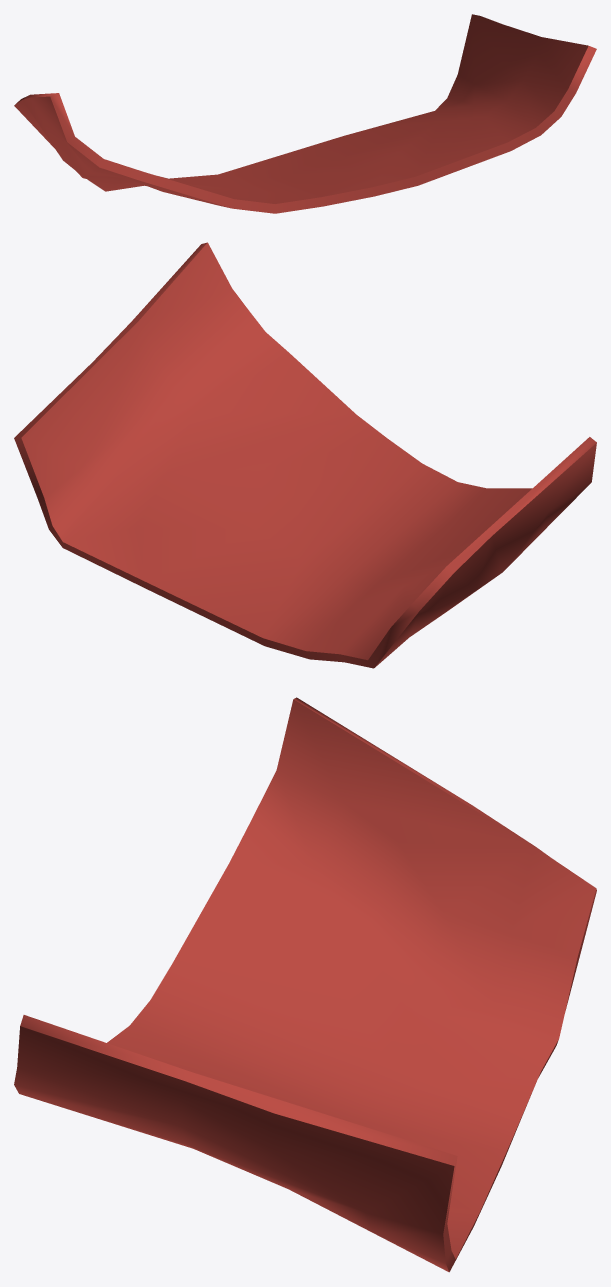
File: musculos-extensor-retinaculum-of-wrist-l.glb
3 renders of one model, top to bottom at view 1: azimuth 30°, elevation 25°; view 2: azimuth 150°, elevation 25°; view 3: azimuth 270°, elevation 25°, orthographic. The views are drawn at different scales.
Visible parts, largest first — view 1: Extensor retinaculum of wrist.l; view 2: Extensor retinaculum of wrist.l; view 3: Extensor retinaculum of wrist.l.
Part boxes in pixels (x1,y1,x2,y2): Extensor retinaculum of wrist.l: (14,14,596,213); Extensor retinaculum of wrist.l: (14,242,596,668); Extensor retinaculum of wrist.l: (14,697,596,1272).
Bounding box in the file's own units: 0.0576 × 0.0232 × 0.04.
